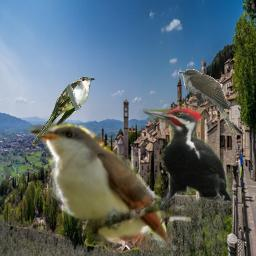Cuckoo: (24, 112, 191, 250), (31, 76, 95, 148), (178, 69, 237, 136)
Woodpecker: (143, 101, 234, 209)
